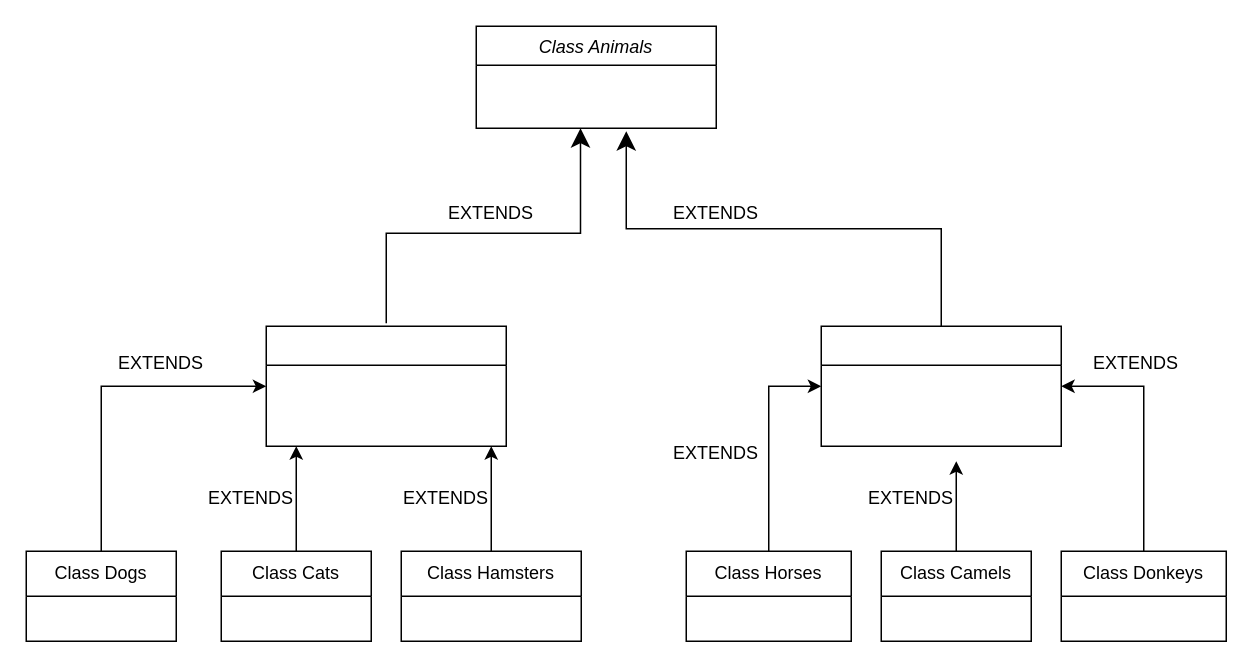
This 1253x668 diagram has some shape labels left out. The shapes that lost their labels are listed below. From the top down, each one's centre as x and y in pixels, then its label:
At point 385,385: "Class HomeAnimals".
At point 940,385: "Class PackAnimals".
